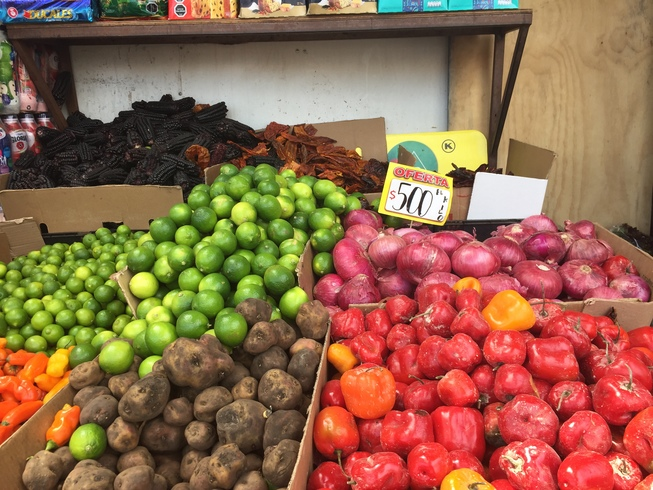precio: (375, 156, 460, 235)
